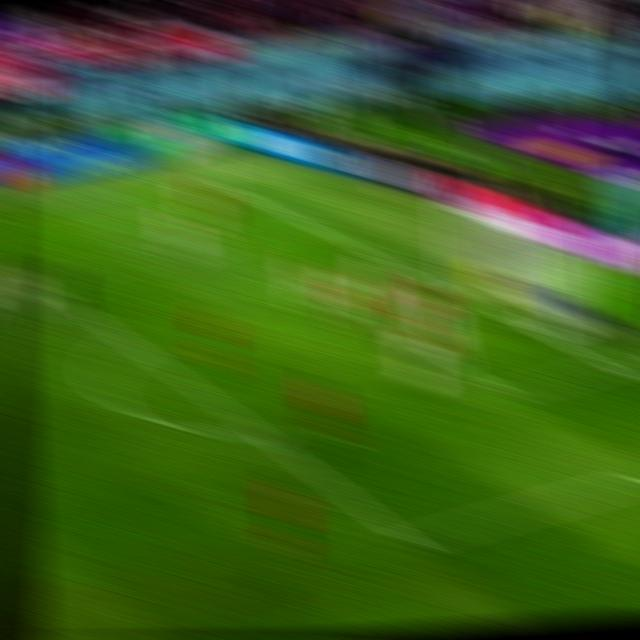bigarea_bottom_inner: (388, 525, 433, 560)
bigarea_top_inner: (21, 267, 58, 296)
bigarea_top_outter: (295, 215, 331, 240)
bottom_arc_area_intersection: (239, 420, 282, 452)
smallarea_bottom_inner: (487, 375, 526, 411)
smallarea_bottom_outter: (593, 352, 630, 384)
smallarea_top_inner: (300, 276, 334, 306)
smallarea_top_outter: (389, 256, 426, 287)
top_arc_area_intersection: (110, 326, 152, 361)
